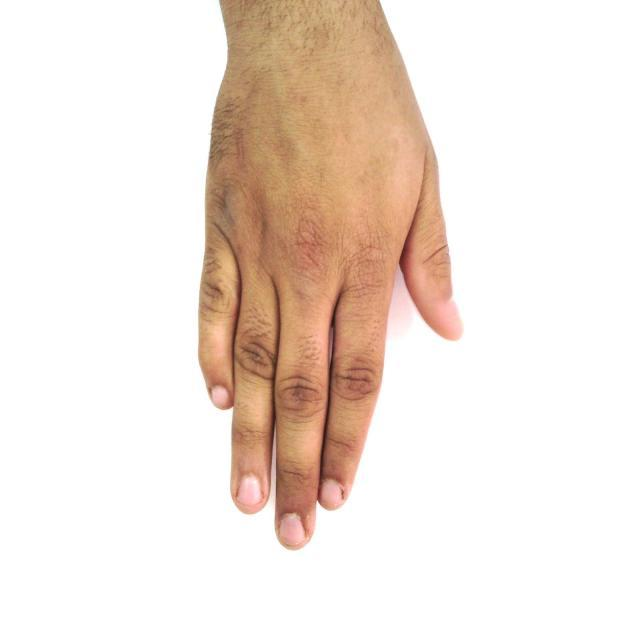Fingernail: (280, 514, 306, 546), (238, 475, 262, 506), (321, 481, 343, 508), (211, 387, 229, 408)
